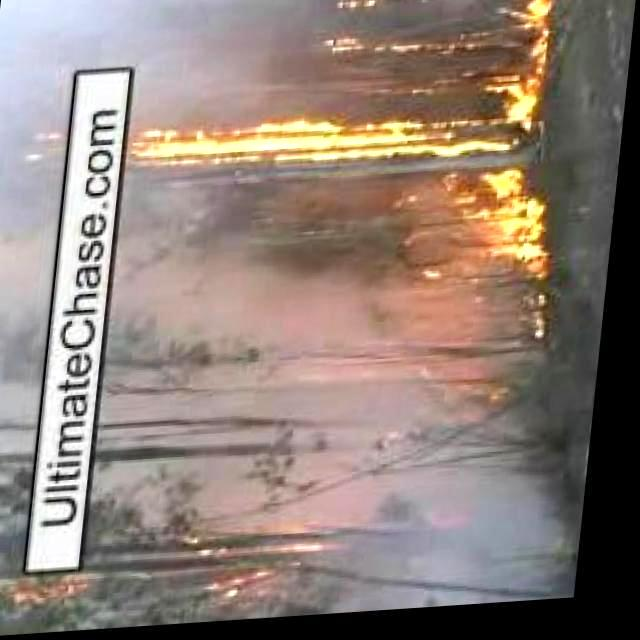fire: (59, 106, 509, 182), (462, 176, 558, 312), (8, 564, 126, 620), (196, 544, 304, 604), (520, 0, 560, 136), (314, 32, 466, 62)
